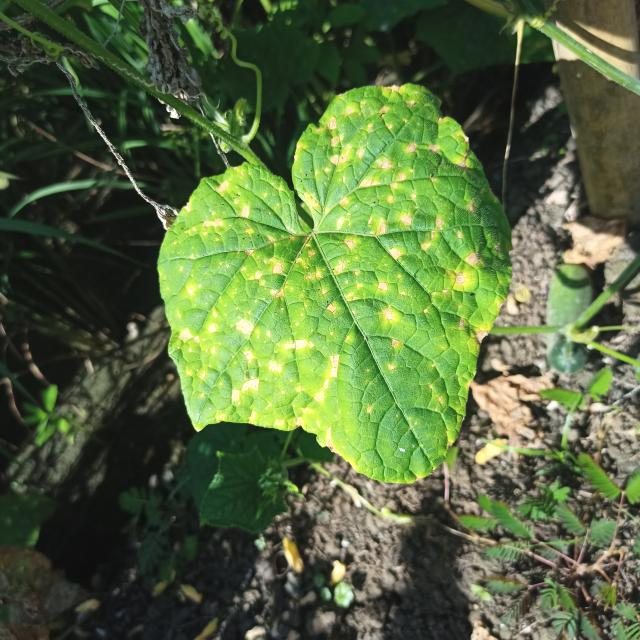disease_cucumber: (176, 85, 500, 453)
